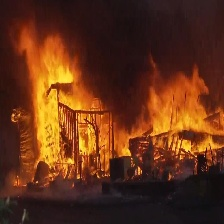fire: (19, 32, 118, 177), (119, 62, 224, 171)
